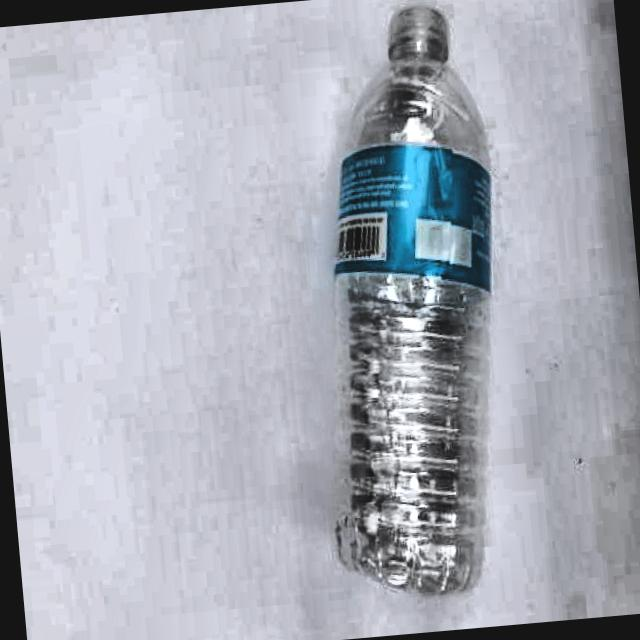plastic bottle: (335, 6, 491, 596)
